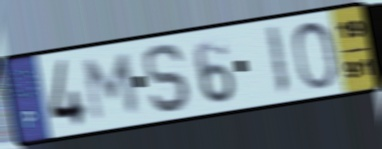4: (48, 56, 89, 130)
6: (192, 36, 237, 106)
I: (264, 23, 292, 99)
M: (82, 51, 142, 124)
O: (290, 18, 340, 92)
S: (142, 40, 194, 115)
